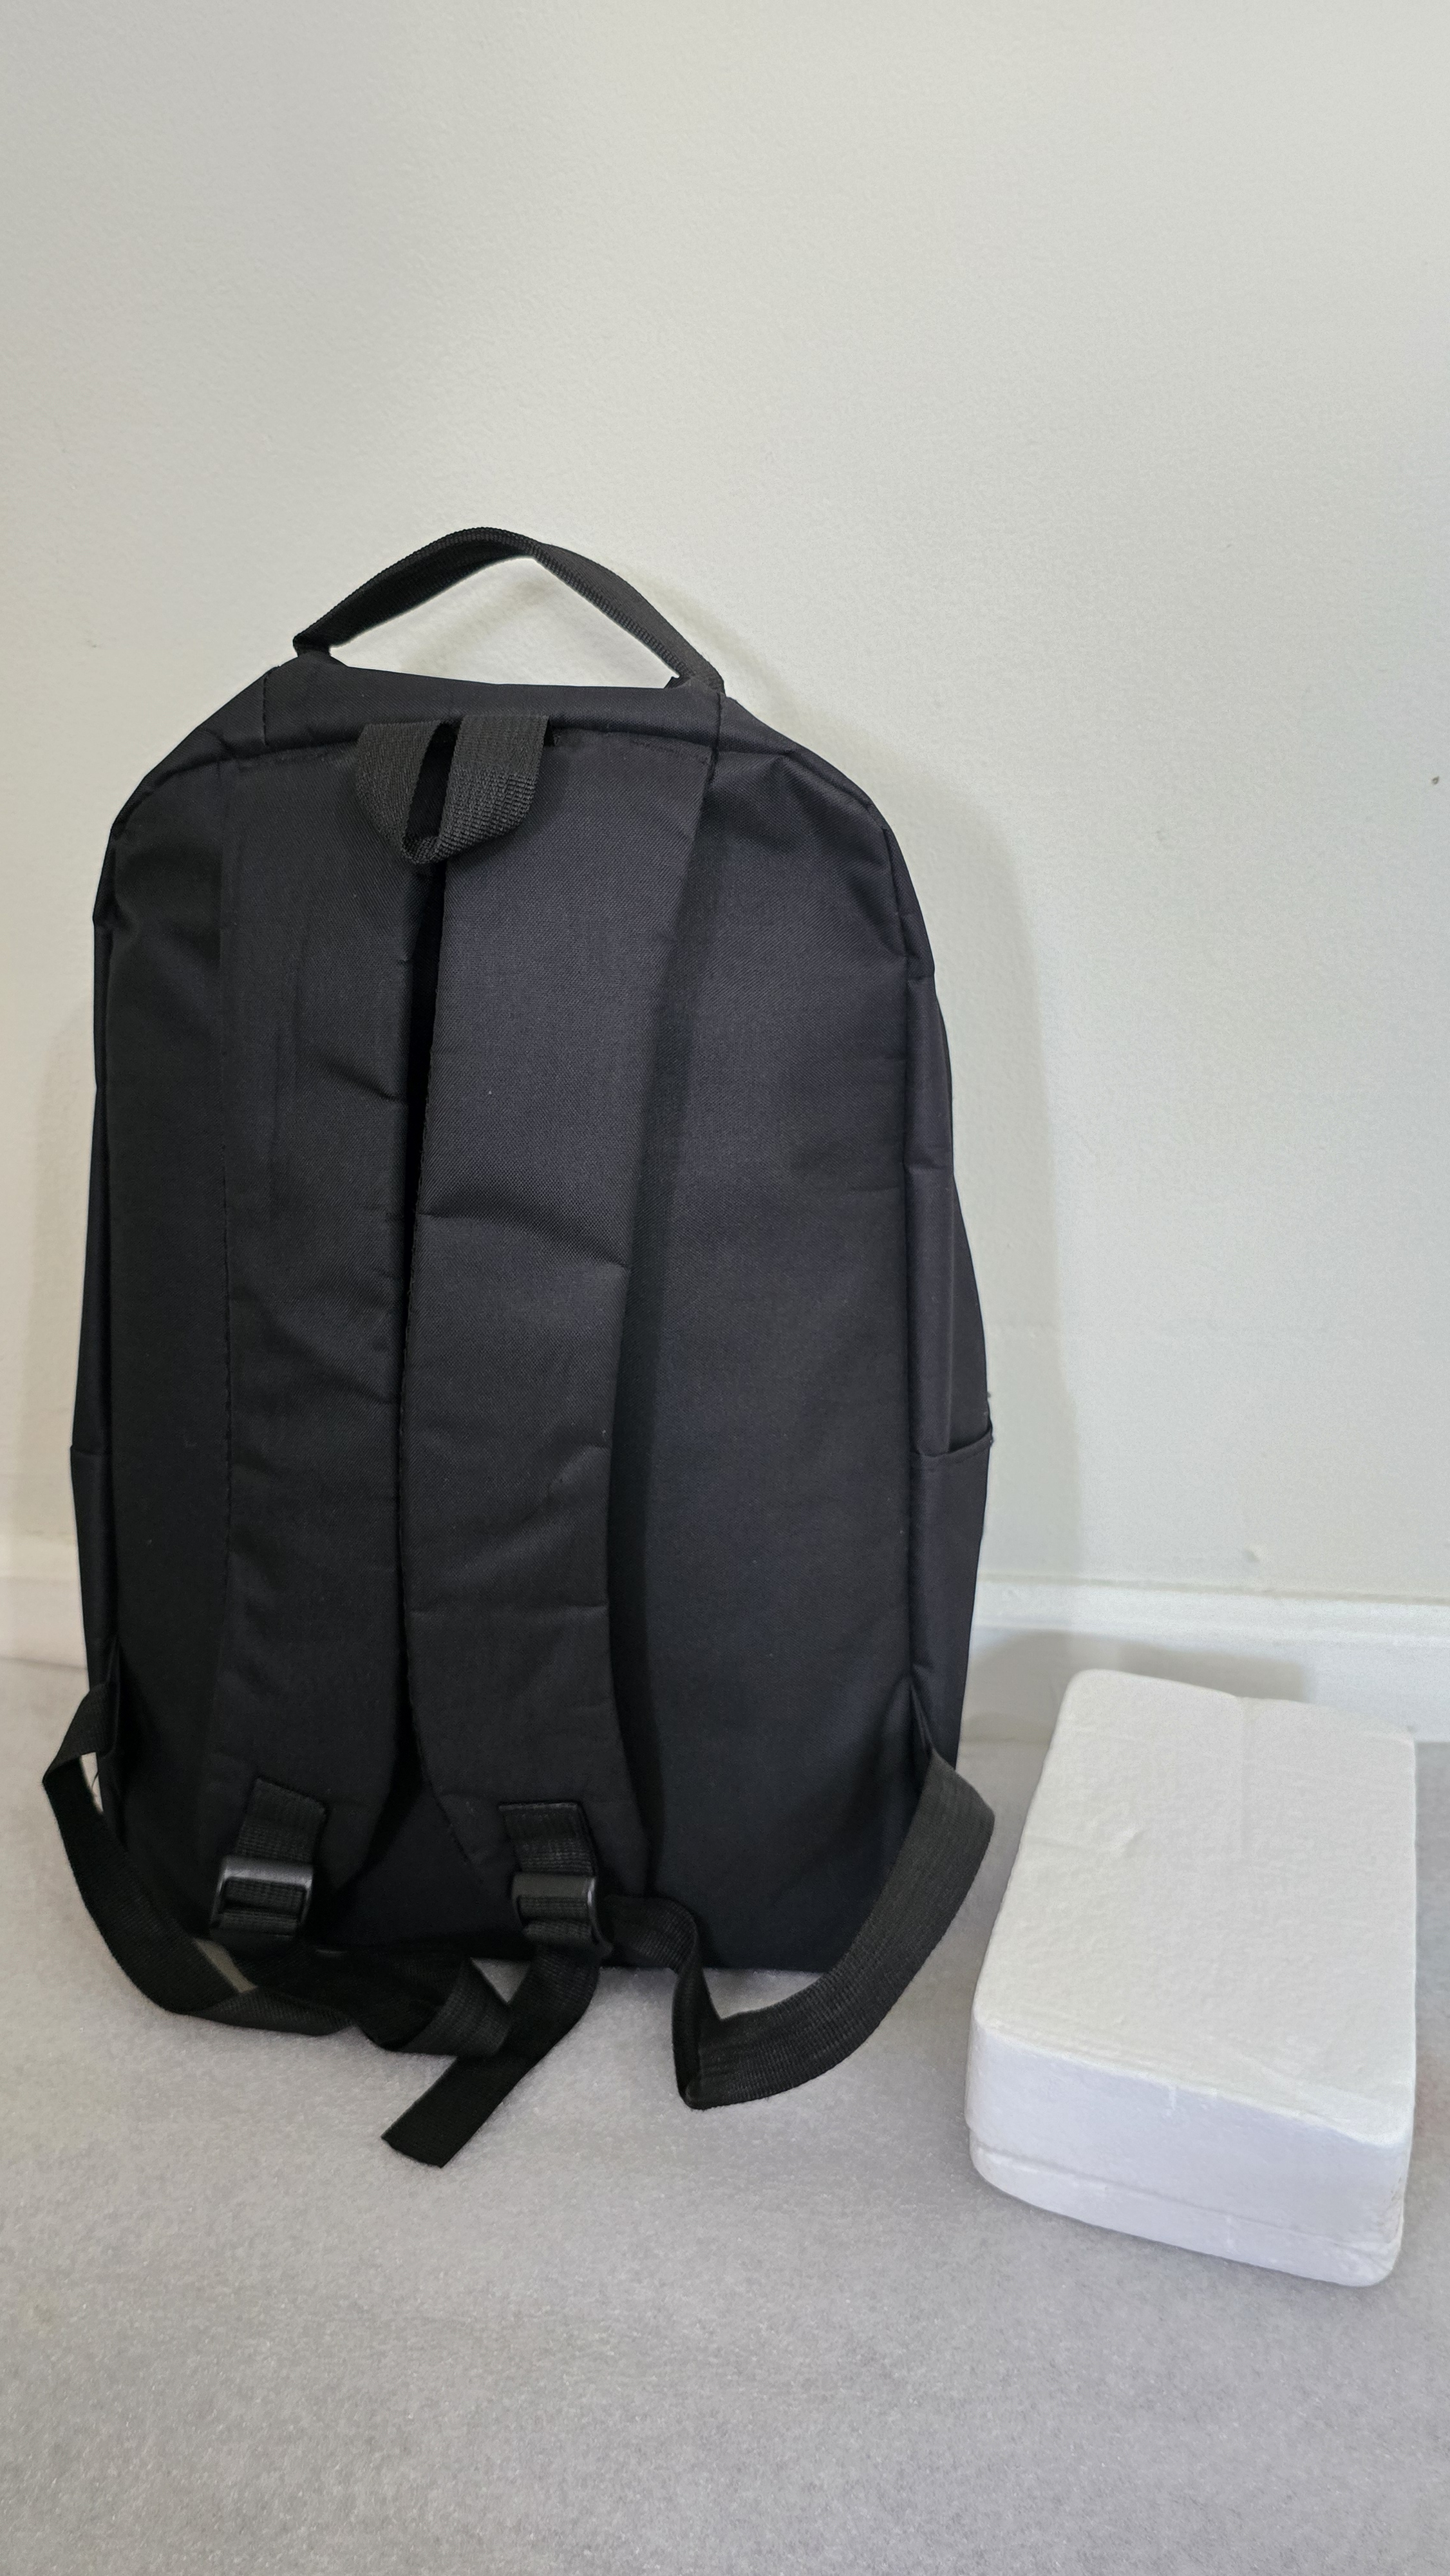bag: (74, 506, 1026, 2088)
